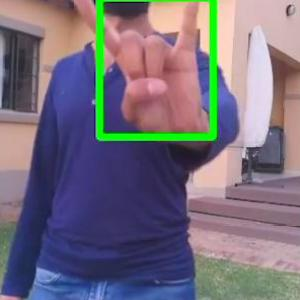takeoff-hand: (69, 0, 207, 138)
